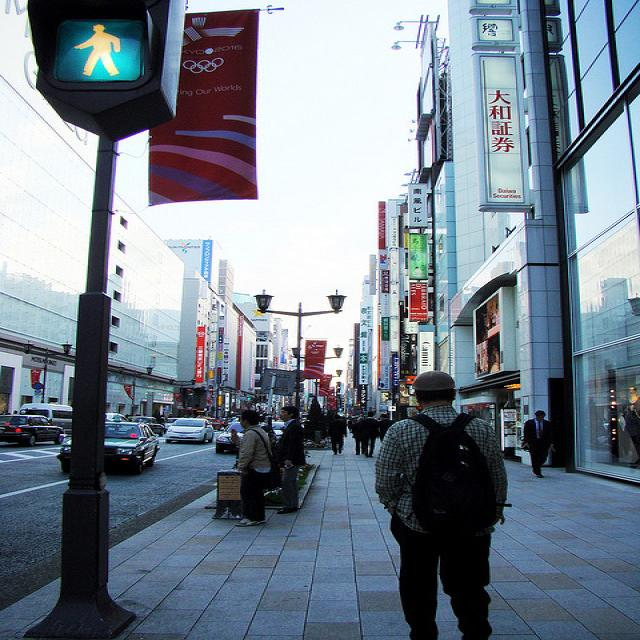Vehicle: (56, 422, 160, 476), (0, 415, 66, 446), (17, 402, 74, 429), (165, 418, 214, 444), (214, 421, 243, 456), (128, 416, 164, 434), (272, 422, 284, 438)
